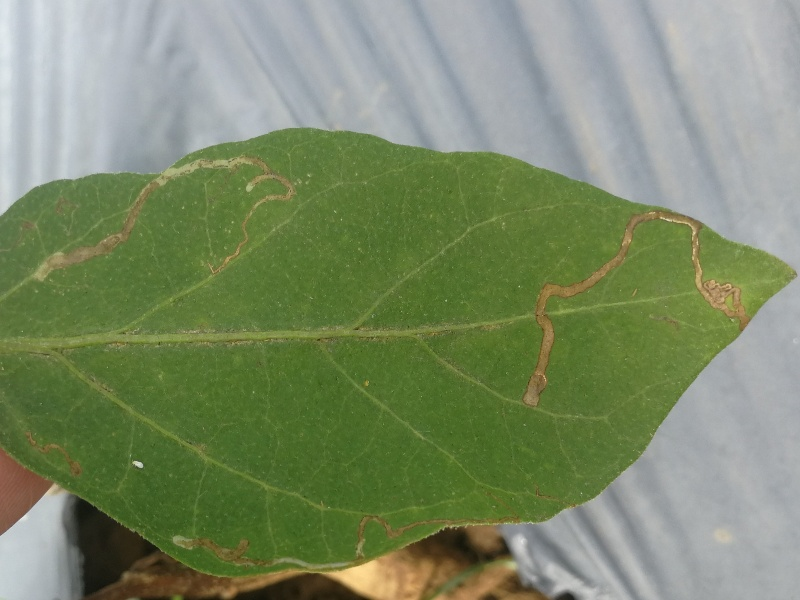leafminer: (515, 208, 747, 413), (25, 155, 301, 285)
